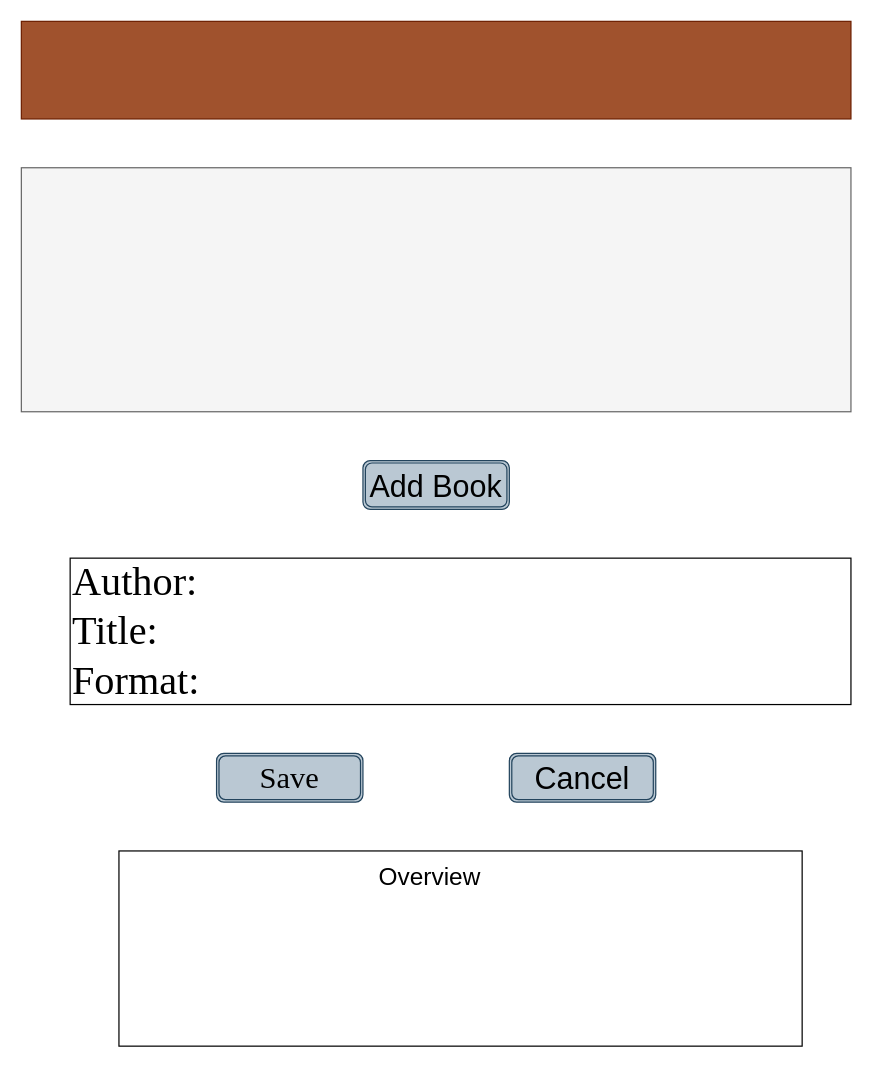
This 872x1068 diagram has some shape labels left out. The centre of each missing label's shape, as x and y in pixels:
"My Bookshelf by Author" goes at point (435, 69).
"Value 1 Value 2 Value 3 Value 4 Value 5 Value 6 Value 7 Value 8 Value 9" goes at point (435, 289).
